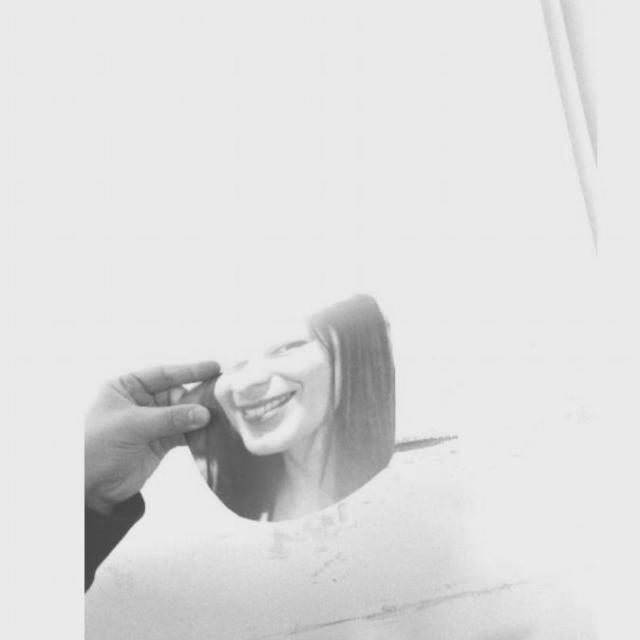fake: (156, 282, 408, 541)
